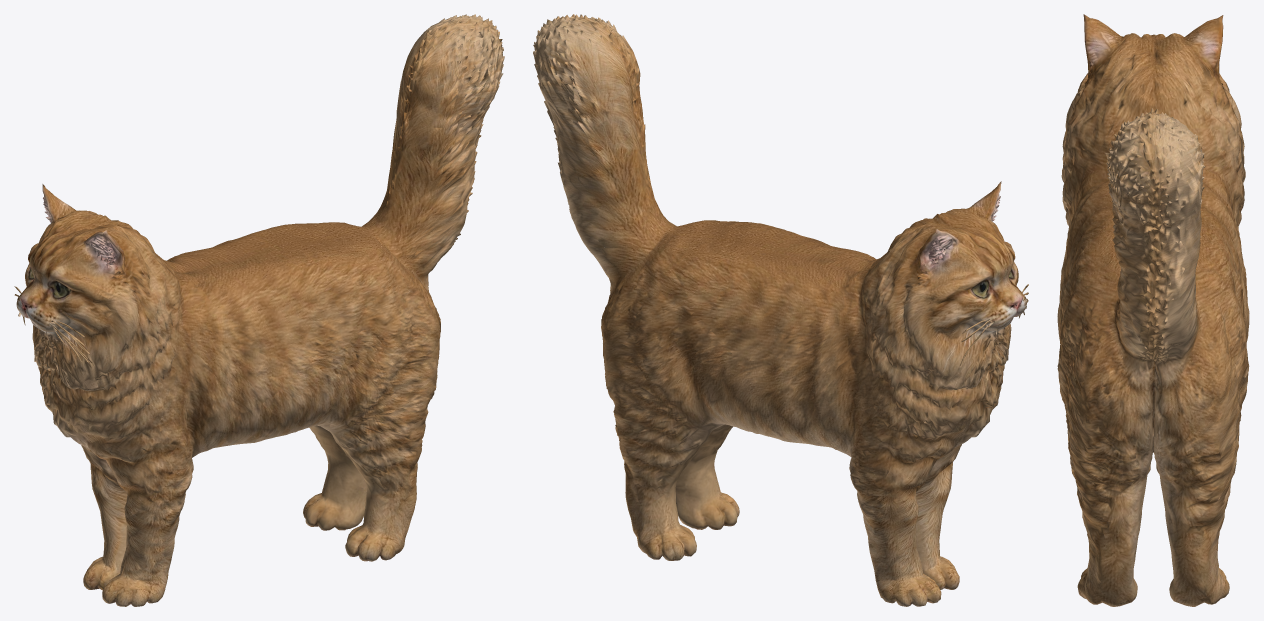
File: CHIKUWACAT.glb
3 views of the same model, side by side, from view 1: azimuth 30°, elevation 25°; view 2: azimuth 150°, elevation 25°; view 3: azimuth 270°, elevation 25° (orthographic). The views are drawn at different scales.
Visible parts, largest first — view 1: tripo_node_aca065ca-25c6-441f-b045-b267ff4c9d62; view 2: tripo_node_aca065ca-25c6-441f-b045-b267ff4c9d62; view 3: tripo_node_aca065ca-25c6-441f-b045-b267ff4c9d62.
Part boxes in pixels (<box>): tripo_node_aca065ca-25c6-441f-b045-b267ff4c9d62: <box>14,14,504,606</box>; tripo_node_aca065ca-25c6-441f-b045-b267ff4c9d62: <box>533,14,1028,606</box>; tripo_node_aca065ca-25c6-441f-b045-b267ff4c9d62: <box>1057,14,1249,606</box>.
Size of the model in its own units: 1.02 by 0.9998 by 0.3233.
Materials: 1 (1 with a texture image).
